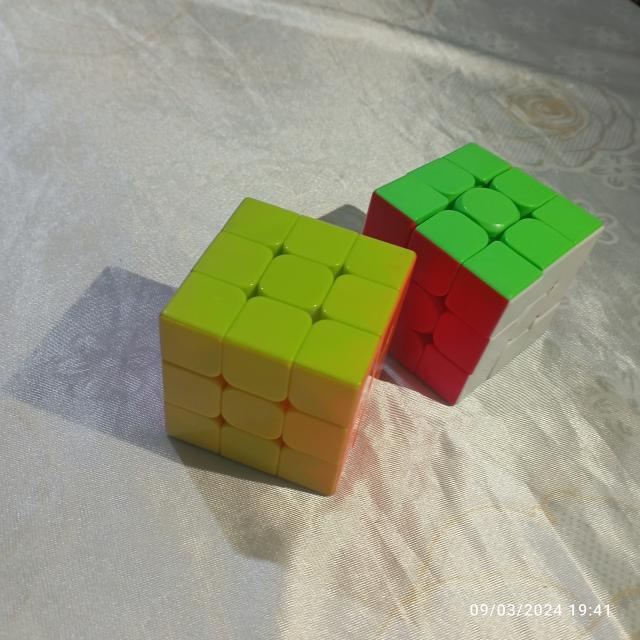Rub: (155, 192, 417, 501), (352, 137, 608, 410)
